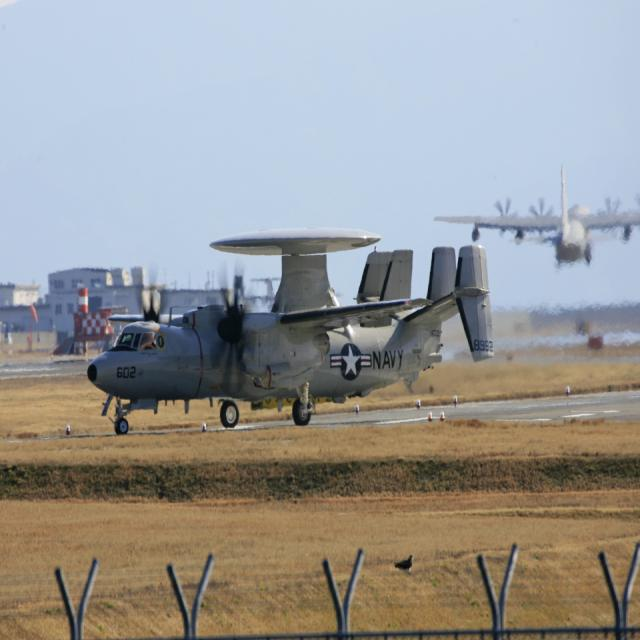MIL_Plane: (86, 227, 494, 435), (433, 178, 640, 254)
